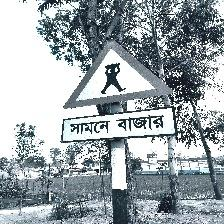Market-in-front: (62, 39, 176, 144)
